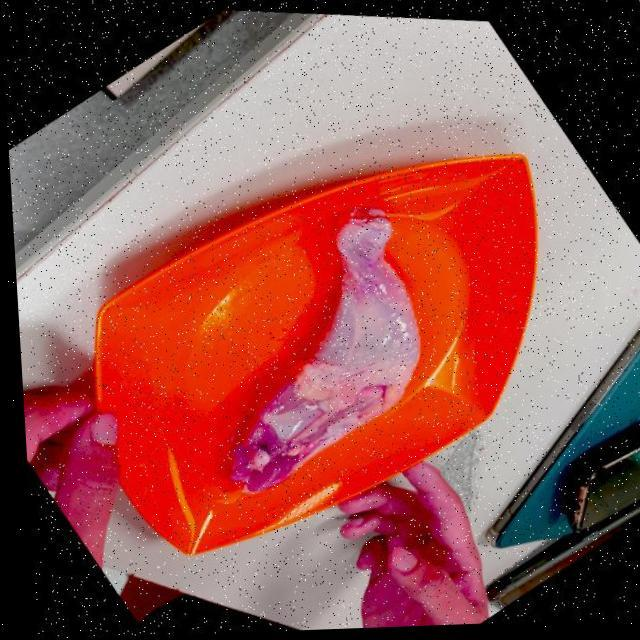quater: (213, 216, 420, 497)
